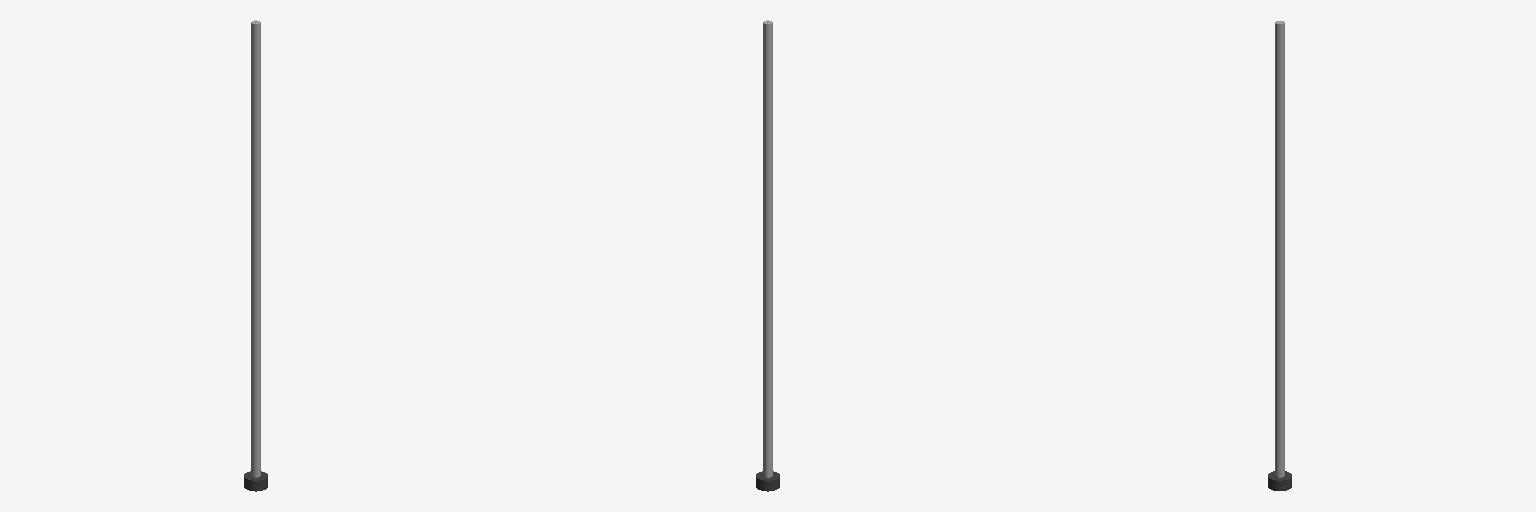
robot.urdf — three_dof_arm:
<?xml version="1.0"?>
<robot name="three_dof_arm">

  <!-- ========================================================= -->
  <!-- MATERIALS -->
  <!-- ========================================================= -->

  <material name="gray">
    <color rgba="0.7 0.7 0.7 1"/>
  </material>

  <material name="dark">
    <color rgba="0.3 0.3 0.3 1"/>
  </material>

  <!-- ========================================================= -->
  <!-- BASE LINK  (unchanged) -->
  <!-- ========================================================= -->

  <link name="base_link">
    <visual>
      <origin xyz="0 0 0.05" rpy="0 0 0"/>
      <geometry>
        <cylinder radius="0.10" length="0.10"/>
      </geometry>
      <material name="dark"/>
    </visual>

    <collision>
      <origin xyz="0 0 0.05" rpy="0 0 0"/>
      <geometry>
        <cylinder radius="0.10" length="0.10"/>
      </geometry>
    </collision>

    <inertial>
      <origin xyz="0 0 0.05" rpy="0 0 0"/>
      <mass value="5.0"/>
      <inertia ixx="0.02" ixy="0.0" ixz="0.0" iyy="0.02" iyz="0.0" izz="0.01"/>
    </inertial>
  </link>

  <!-- ========================================================= -->
  <!-- LINK 1  (length 1.00 → 1.50)
       Visual/collision centre: z = L/2 = 0.75
       r=0.04, L=1.50, m=1.0
         ixx = iyy = m*(3r² + L²)/12 = (3*0.0016 + 2.25)/12 = 2.2548/12 ≈ 0.1879
         izz  = m*r²/2               = 0.0016/2               = 0.0008
  -->
  <!-- ========================================================= -->

  <link name="link1">
    <visual>
      <origin xyz="0 0 0.75" rpy="0 0 0"/>
      <geometry>
        <cylinder radius="0.04" length="1.50"/>
      </geometry>
      <material name="gray"/>
    </visual>

    <collision>
      <origin xyz="0 0 0.75" rpy="0 0 0"/>
      <geometry>
        <cylinder radius="0.04" length="1.50"/>
      </geometry>
    </collision>

    <inertial>
      <origin xyz="0 0 0.75" rpy="0 0 0"/>
      <mass value="1.0"/>
      <inertia ixx="0.1879" ixy="0.0" ixz="0.0"
               iyy="0.1879" iyz="0.0"
               izz="0.0008"/>
    </inertial>
  </link>

  <!-- ========================================================= -->
  <!-- LINK 2  (length 1.00 → 1.50, same geometry as link1)
       r=0.04, L=1.50, m=1.0  → same inertia as link1
  -->
  <!-- ========================================================= -->

  <link name="link2">
    <visual>
      <origin xyz="0 0 0.75" rpy="0 0 0"/>
      <geometry>
        <cylinder radius="0.04" length="1.50"/>
      </geometry>
      <material name="gray"/>
    </visual>

    <collision>
      <origin xyz="0 0 0.75" rpy="0 0 0"/>
      <geometry>
        <cylinder radius="0.04" length="1.50"/>
      </geometry>
    </collision>

    <inertial>
      <origin xyz="0 0 0.75" rpy="0 0 0"/>
      <mass value="1.0"/>
      <inertia ixx="0.1879" ixy="0.0" ixz="0.0"
               iyy="0.1879" iyz="0.0"
               izz="0.0008"/>
    </inertial>
  </link>

  <!-- ========================================================= -->
  <!-- LINK 3  (length 0.80 → 1.20)
       Visual/collision centre: z = L/2 = 0.60
       r=0.04, L=1.20, m=0.8
         ixx = iyy = 0.8*(3*0.0016 + 1.44)/12 = 0.8*1.4448/12 ≈ 0.0963
         izz  = 0.8*0.0016/2                    = 0.00064
  -->
  <!-- ========================================================= -->

  <link name="link3">
    <visual>
      <origin xyz="0 0 0.60" rpy="0 0 0"/>
      <geometry>
        <cylinder radius="0.04" length="1.20"/>
      </geometry>
      <material name="gray"/>
    </visual>

    <collision>
      <origin xyz="0 0 0.60" rpy="0 0 0"/>
      <geometry>
        <cylinder radius="0.04" length="1.20"/>
      </geometry>
    </collision>

    <inertial>
      <origin xyz="0 0 0.60" rpy="0 0 0"/>
      <mass value="0.8"/>
      <inertia ixx="0.0963" ixy="0.0" ixz="0.0"
               iyy="0.0963" iyz="0.0"
               izz="0.00064"/>
    </inertial>
  </link>

  <!-- ========================================================= -->
  <!-- JOINTS -->
  <!-- ========================================================= -->

  <!-- Joint 1: Base Yaw — parent top is still at z=0.10 (base unchanged) -->
  <joint name="joint1" type="revolute">
    <parent link="base_link"/>
    <child link="link1"/>
    <origin xyz="0 0 0.10" rpy="0 0 0"/>
    <axis xyz="0 0 1"/>
    <limit lower="-3.14" upper="3.14" effort="20" velocity="2"/>
  </joint>

  <!-- Joint 2 — sits at the top of link1, now 1.50 m up -->
  <joint name="joint2" type="revolute">
    <parent link="link1"/>
    <child link="link2"/>
    <origin xyz="0 0 1.50" rpy="0 0 0"/>
    <axis xyz="0 1 0"/>
    <limit lower="-1.57" upper="1.57" effort="15" velocity="2"/>
  </joint>

  <!-- Joint 3 — sits at the top of link2, now 1.50 m up -->
  <joint name="joint3" type="revolute">
    <parent link="link2"/>
    <child link="link3"/>
    <origin xyz="0 0 1.50" rpy="0 0 0"/>
    <axis xyz="0 1 0"/>
    <limit lower="-1.57" upper="1.57" effort="12" velocity="2"/>
  </joint>

</robot>

--- Facts derived from the render (not from the file) ---
Views: 3 orthographic renders of the robot side by side, from view 1: azimuth 30°, elevation 25°; view 2: azimuth 150°, elevation 25°; view 3: azimuth 270°, elevation 25°.
Model three_dof_arm with 4 links and 3 joints (3 revolute), rooted at base_link, posed every joint at zero.
Visible links, largest first — view 1: link1, link2, link3; view 2: link2, link1, link3; view 3: link1, link2, link3.
Boxes of the visible links, left/top/right/bottom form: link1: left=251, top=314, right=260, bottom=477; link2: left=251, top=153, right=260, bottom=315; link3: left=251, top=20, right=260, bottom=153; link2: left=763, top=153, right=772, bottom=315; link1: left=763, top=314, right=772, bottom=477; link3: left=763, top=20, right=772, bottom=153; link1: left=1275, top=314, right=1284, bottom=477; link2: left=1275, top=153, right=1284, bottom=315; link3: left=1275, top=21, right=1284, bottom=153.
Bounding box of the posed robot: 0.2 × 0.2 × 4.3 m (x, y, z).
Geometry: primitives only (box / cylinder / sphere), no mesh files.
